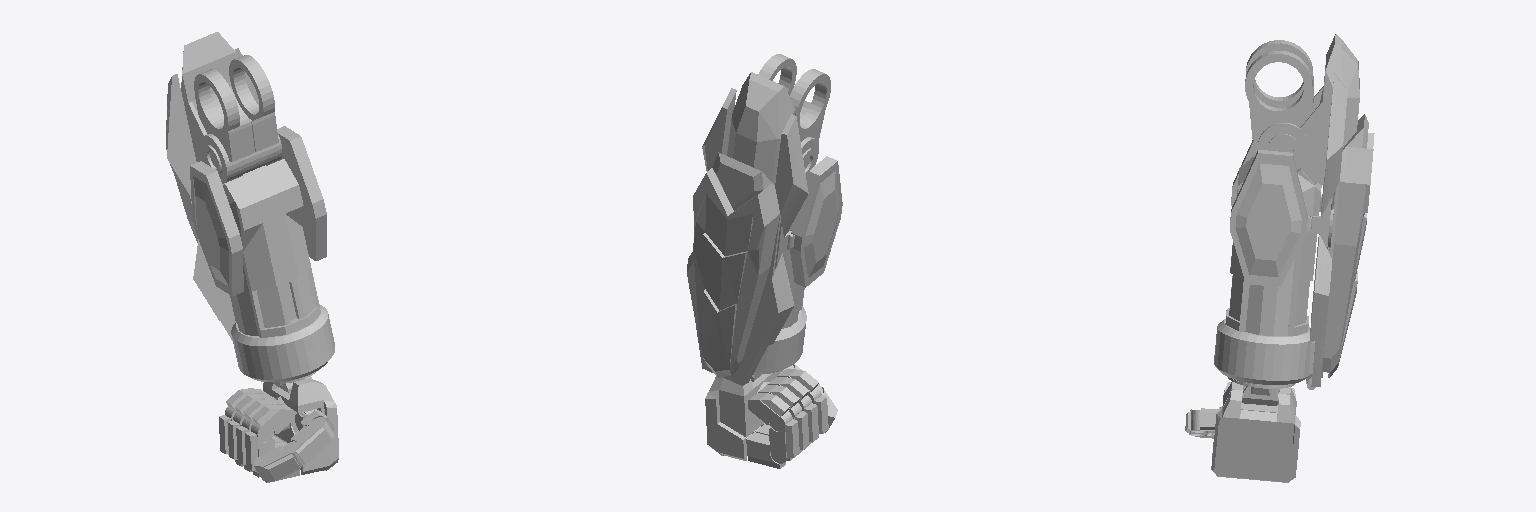
File: RZ-0 leftarm.obj
3 views of the same model, side by side, from view 1: azimuth 30°, elevation 25°; view 2: azimuth 150°, elevation 25°; view 3: azimuth 270°, elevation 25° (orthographic).
Parts seen in each view (by area): view 1: Cylinder.1146_Cylinder.1410, Cylinder.1152_Cylinder.1419, Cylinder.1154_Cylinder.1421, Cylinder.1955_Cylinder.2410, Cylinder.1422_Cylinder.1703, Cylinder.1951_Cylinder.2406, Cylinder.1952_Cylinder.2407, Cylinder.1181_Cylinder.1448, Cube.030, Cylinder.1148_Cylinder.1412, Cylinder.1953_Cylinder.2408, Cylinder.1241_Cylinder.1510 (+9 smaller); view 2: Cylinder.1941_Cylinder.2394, Cylinder.1955_Cylinder.2410, Cylinder.1425_Cylinder.1711, Cylinder.1146_Cylinder.1410, Cylinder.1952_Cylinder.2407, Cylinder.1940_Cylinder.2393, Cube.030, Cube.031, Cylinder.1953_Cylinder.2408, Cylinder.1951_Cylinder.2406, Cylinder.1444_Cylinder.1733, Cylinder.1443_Cylinder.1732 (+5 smaller); view 3: Cube.031, Cylinder.1950_Cylinder.2405, Cylinder.1941_Cylinder.2394, Cylinder.1146_Cylinder.1410, Cylinder.1955_Cylinder.2410, Cylinder.1154_Cylinder.1421, Cylinder.1951_Cylinder.2406, Cylinder.1419_Cylinder.1700, Cylinder.1181_Cylinder.1448, Cylinder.1425_Cylinder.1711, Cylinder.1547_Cylinder.1846, Cylinder.1949_Cylinder.2404 (+6 smaller).
Boxes of the visible parts, box(x1,y1,x2,y2) form: Cylinder.1146_Cylinder.1410: box(194, 55, 278, 180); Cylinder.1152_Cylinder.1419: box(235, 177, 320, 337); Cylinder.1154_Cylinder.1421: box(181, 32, 281, 183); Cylinder.1955_Cylinder.2410: box(166, 48, 258, 340); Cylinder.1422_Cylinder.1703: box(243, 214, 310, 290); Cylinder.1951_Cylinder.2406: box(232, 319, 334, 376); Cylinder.1952_Cylinder.2407: box(192, 176, 242, 285); Cylinder.1181_Cylinder.1448: box(231, 304, 334, 383); Cube.030: box(263, 378, 325, 470); Cylinder.1148_Cylinder.1412: box(232, 149, 287, 198); Cylinder.1953_Cylinder.2408: box(190, 161, 239, 238); Cylinder.1241_Cylinder.1510: box(253, 441, 300, 481); Cylinder.1941_Cylinder.2394: box(693, 168, 779, 377); Cylinder.1955_Cylinder.2410: box(687, 88, 808, 385); Cylinder.1425_Cylinder.1711: box(727, 72, 784, 184); Cylinder.1146_Cylinder.1410: box(758, 54, 830, 141); Cylinder.1952_Cylinder.2407: box(787, 171, 842, 277); Cylinder.1940_Cylinder.2393: box(712, 152, 779, 221); Cube.030: box(719, 370, 782, 455); Cube.031: box(705, 376, 746, 460); Cylinder.1953_Cylinder.2408: box(791, 156, 842, 237); Cylinder.1951_Cylinder.2406: box(706, 326, 805, 383); Cylinder.1444_Cylinder.1733: box(769, 414, 799, 458); Cylinder.1443_Cylinder.1732: box(746, 432, 788, 468); Cube.031: box(1211, 390, 1300, 482); Cylinder.1950_Cylinder.2405: box(1230, 164, 1311, 276); Cylinder.1941_Cylinder.2394: box(1322, 133, 1374, 377); Cylinder.1146_Cylinder.1410: box(1245, 40, 1313, 140); Cylinder.1955_Cylinder.2410: box(1307, 73, 1347, 389); Cylinder.1154_Cylinder.1421: box(1258, 34, 1336, 185); Cylinder.1951_Cylinder.2406: box(1214, 332, 1314, 383); Cylinder.1419_Cylinder.1700: box(1245, 168, 1314, 335); Cylinder.1181_Cylinder.1448: box(1214, 319, 1313, 388); Cylinder.1425_Cylinder.1711: box(1335, 34, 1359, 147); Cylinder.1547_Cylinder.1846: box(1288, 183, 1321, 335); Cylinder.1949_Cylinder.2404: box(1231, 150, 1307, 219).
Bounding box in the file's own units: 1 × 3.05 × 1.26.